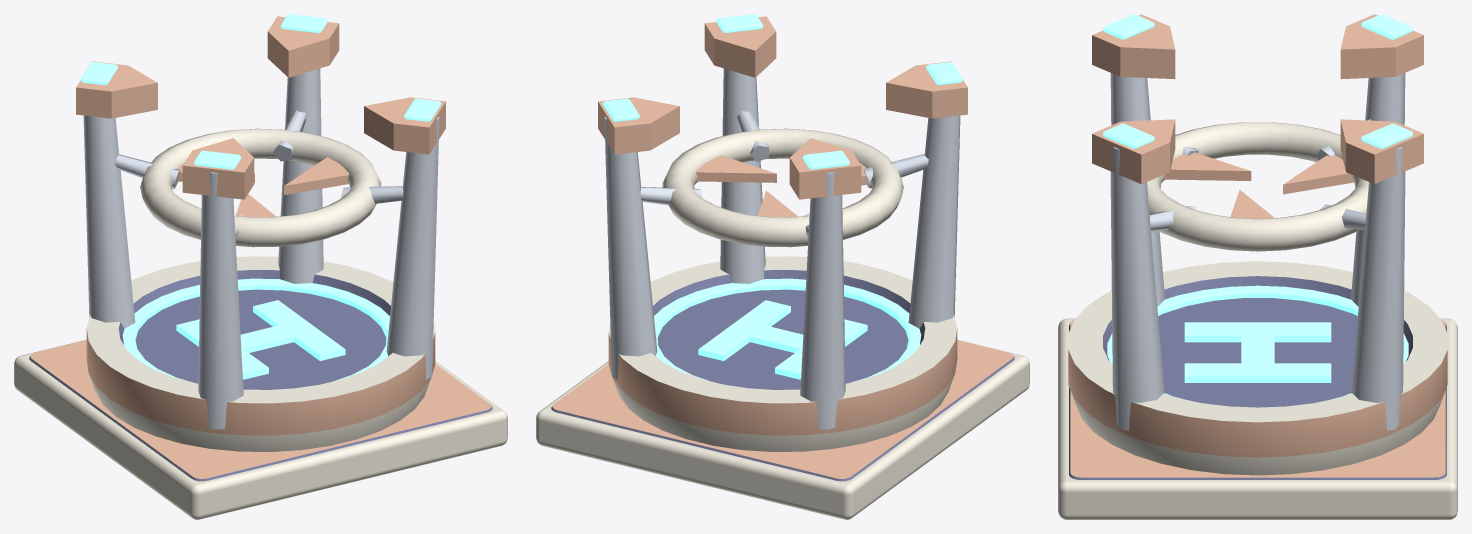
Rendered from R4X_FlyingDroneDeployer.fbx.
3 renders of one model, left to right at view 1: azimuth 30°, elevation 25°; view 2: azimuth 150°, elevation 25°; view 3: azimuth 270°, elevation 25°, orthographic. The views are drawn at different scales.
Parts seen in each view (by area): view 1: R4X_FlyingDroneDeployer_Body, R4X_FlyingDroneDeployer_Iris; view 2: R4X_FlyingDroneDeployer_Body, R4X_FlyingDroneDeployer_Iris; view 3: R4X_FlyingDroneDeployer_Body, R4X_FlyingDroneDeployer_Iris.
Part boxes in pixels (left/top/right/bottom): R4X_FlyingDroneDeployer_Body: left=14, top=14, right=507, bottom=519; R4X_FlyingDroneDeployer_Iris: left=140, top=128, right=381, bottom=247; R4X_FlyingDroneDeployer_Body: left=536, top=14, right=1029, bottom=519; R4X_FlyingDroneDeployer_Iris: left=662, top=128, right=903, bottom=247; R4X_FlyingDroneDeployer_Body: left=1058, top=14, right=1457, bottom=519; R4X_FlyingDroneDeployer_Iris: left=1147, top=122, right=1368, bottom=251.
Size of the model in its own units: 0.514 by 0.513 by 0.514.
